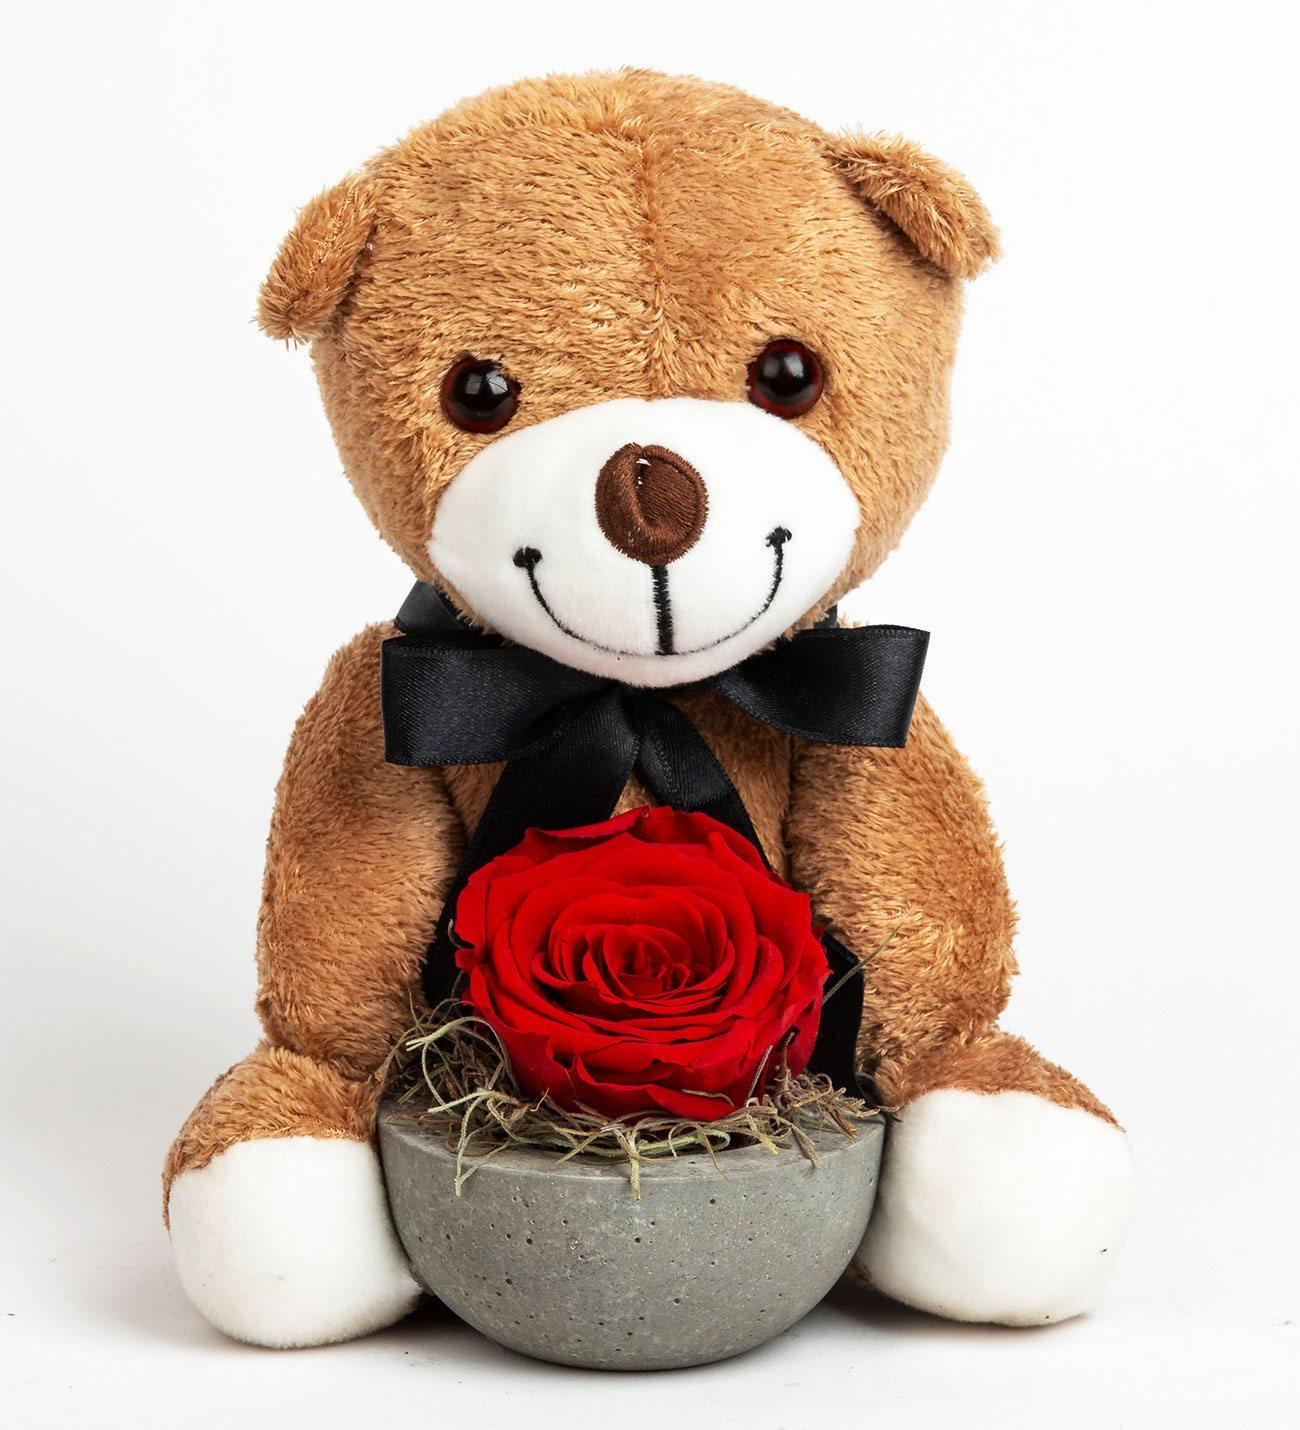Rose: (443, 771, 836, 1109)
